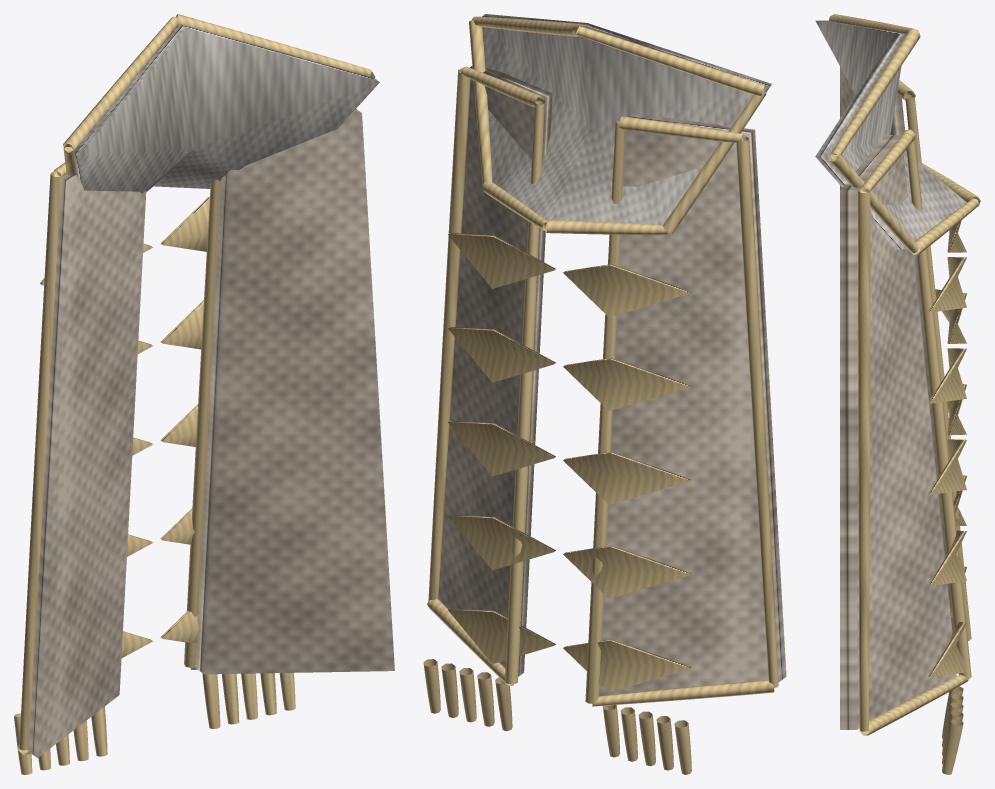
The model's file is outfit_stole.glb.
The picture shows the model from 3 angles, left to right: view 1: azimuth 30°, elevation 25°; view 2: azimuth 150°, elevation 25°; view 3: azimuth 270°, elevation 25°; orthographic projection. The views are drawn at different scales.
Parts seen in each view (by area): view 1: outfit_stole; view 2: outfit_stole; view 3: outfit_stole.
Part boxes in pixels (x1,y1,x2,y2): outfit_stole: (14, 14, 394, 774); outfit_stole: (423, 14, 786, 774); outfit_stole: (815, 14, 980, 774).
Bounding box in the file's own units: 0.779 × 1.5 × 0.3291.
Materials: 3 (3 with a texture image).
